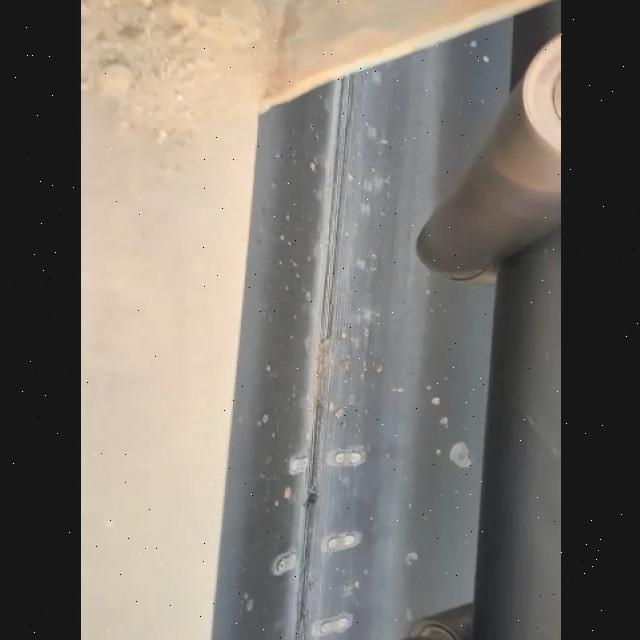Wear: (291, 68, 359, 640)
